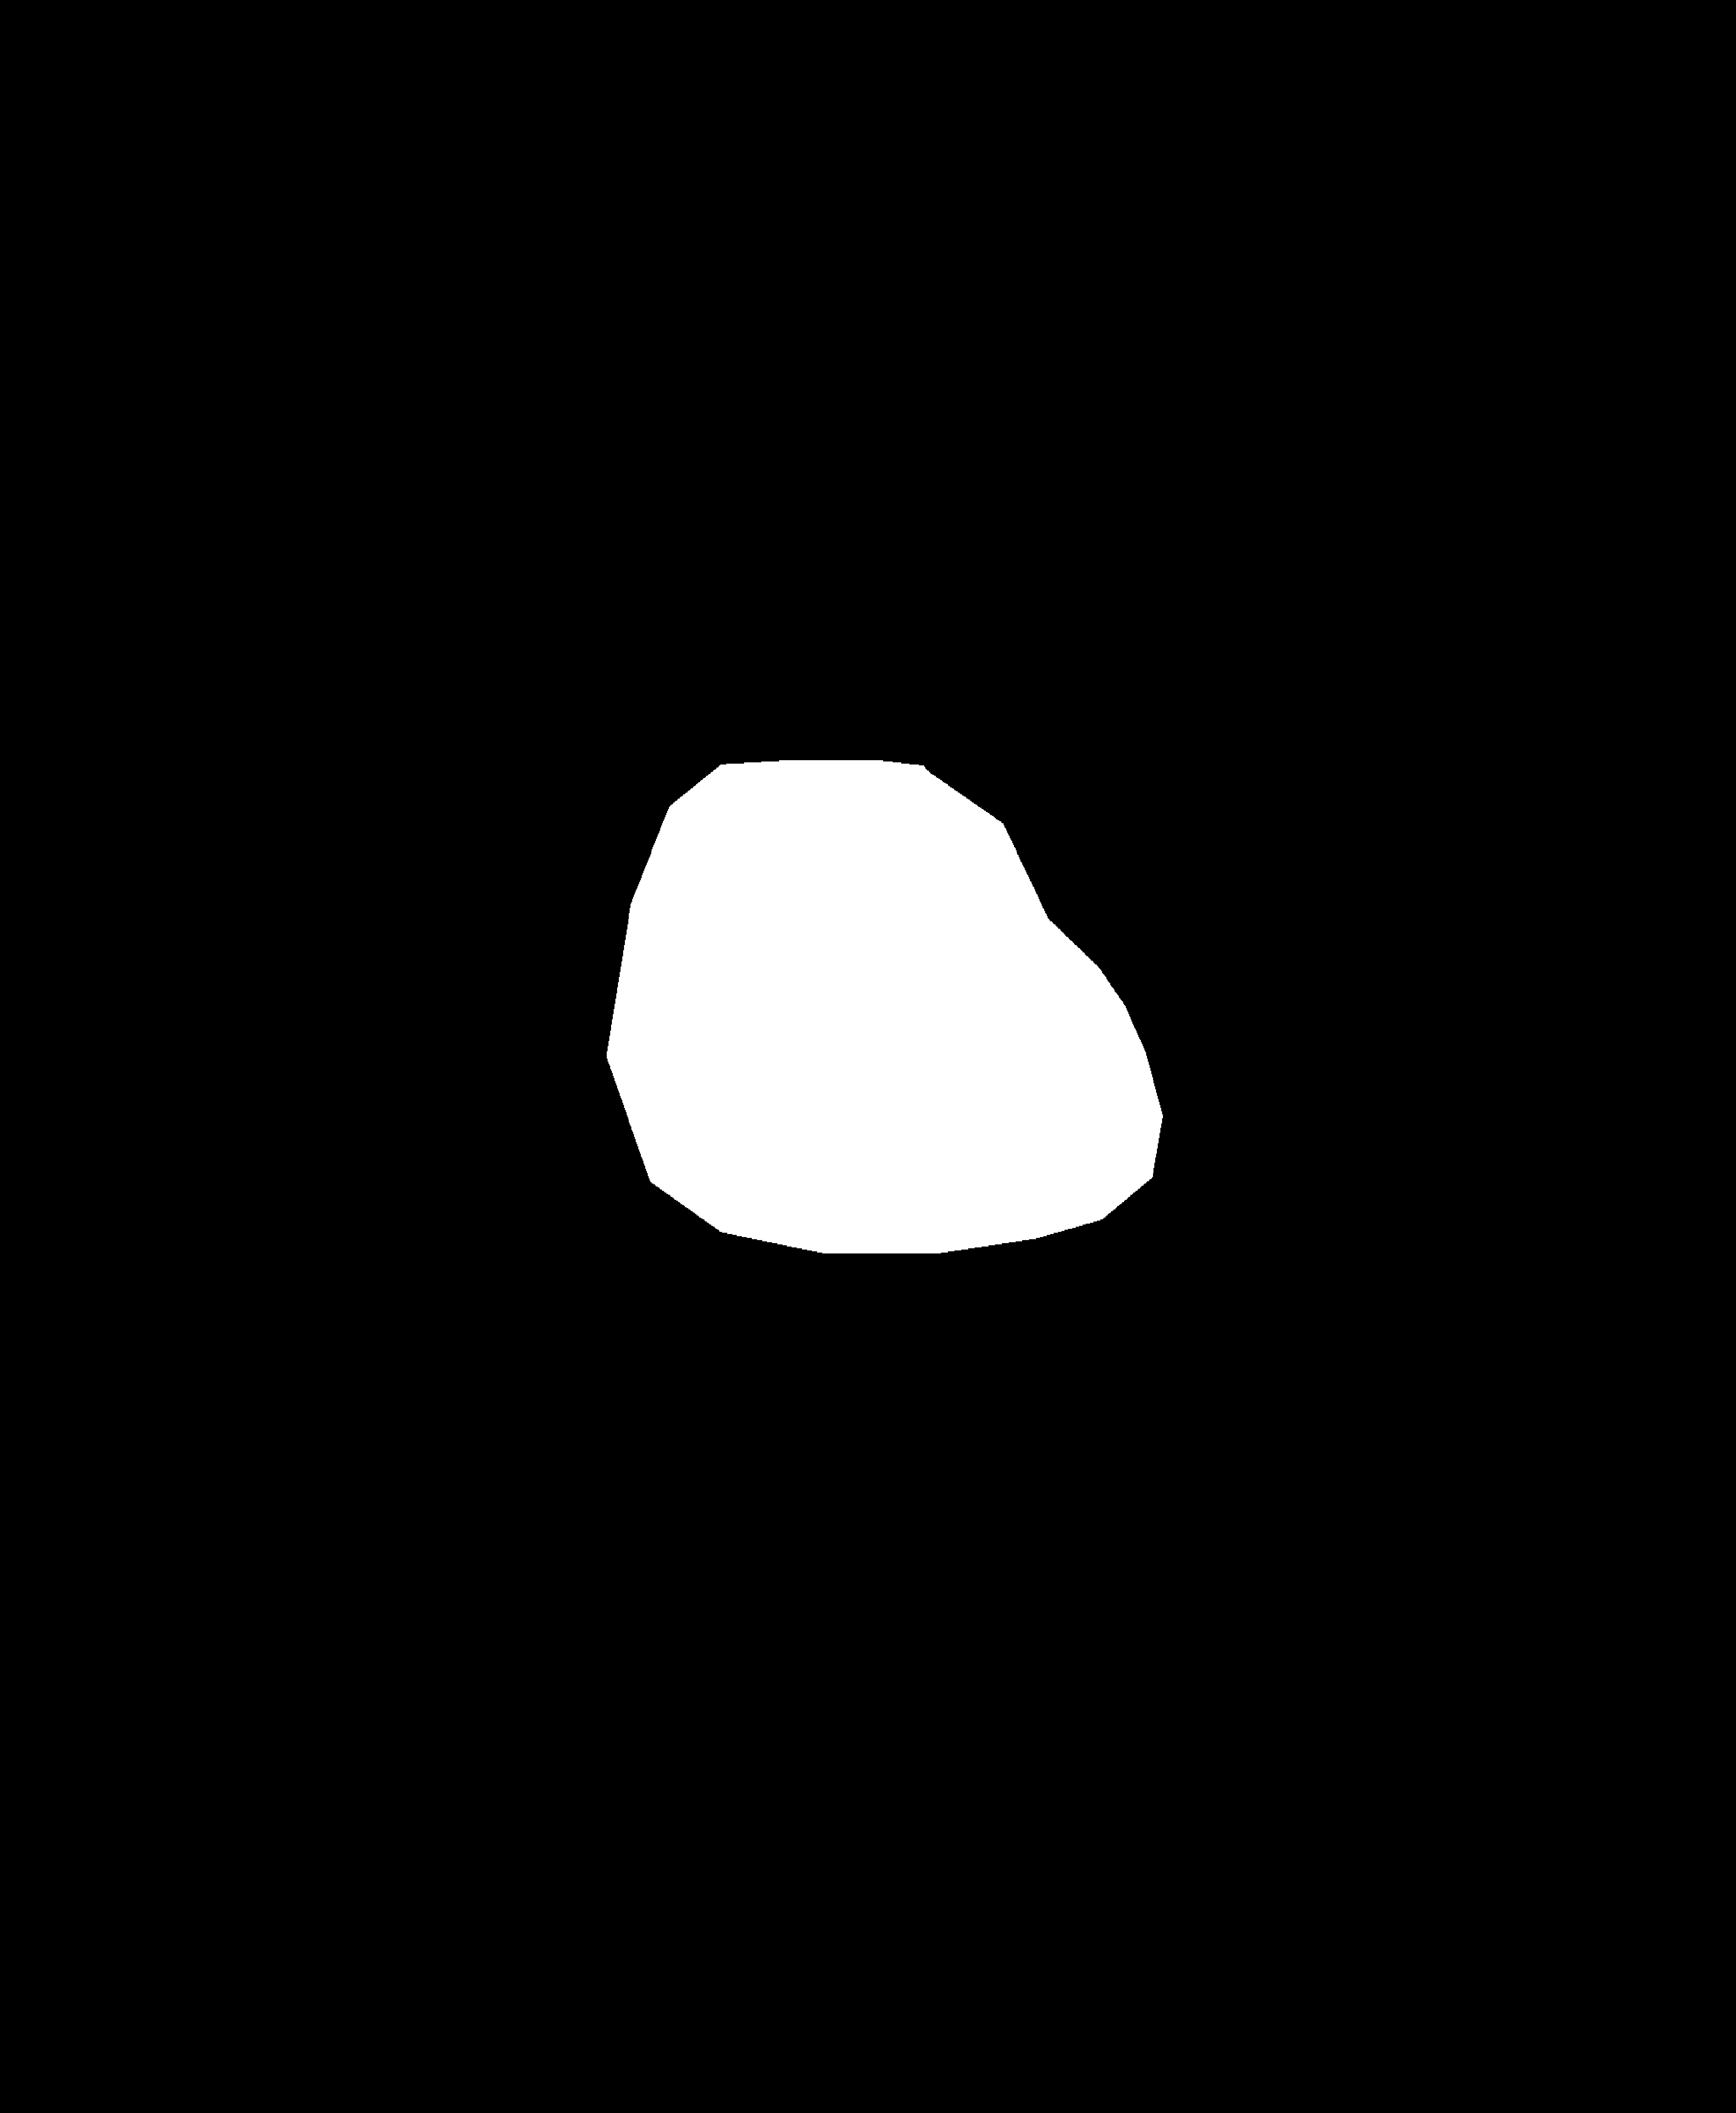heart: (671, 795, 1099, 1279)
left_lung: (75, 137, 723, 1567)
right_lung: (851, 137, 1508, 1407)
